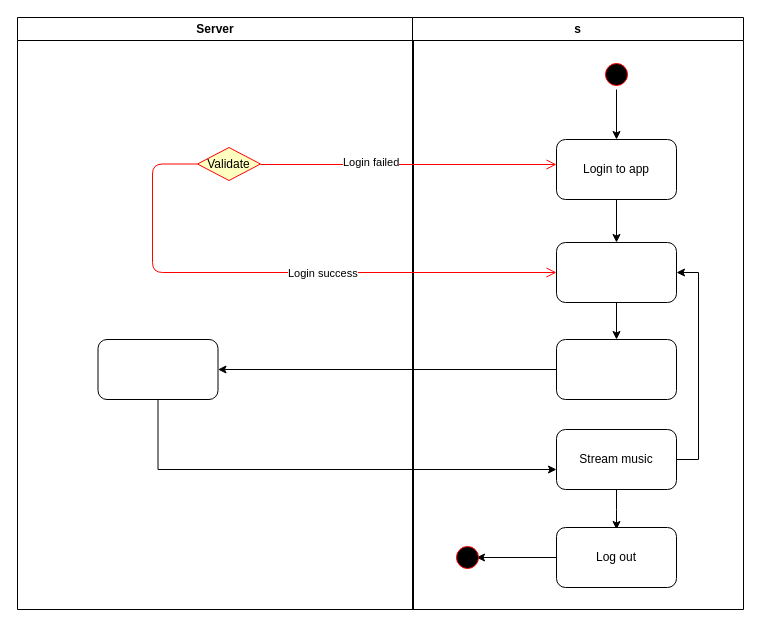
The diagram is 761 pixels wide and 627 high, and some of its shapes have lost their labels. Each missing label, with the centre of its shape:
Select song from song lists: point 616,272
Send JSON request: point 616,369
Send JSON response: point 157,369
